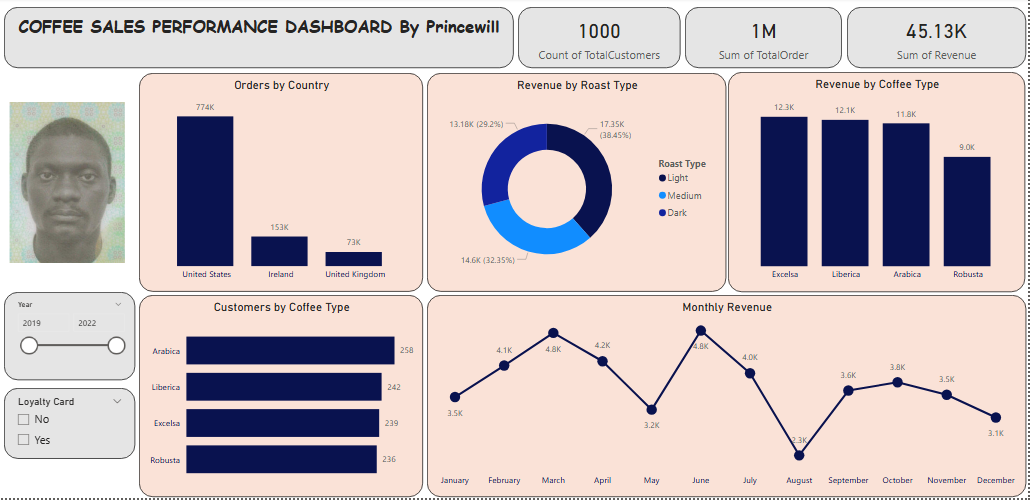

What the dashboard file says about the page in this screenshot:
{"tool":"powerbi","page":{"name":"Executive Dashboard","canvas":[1480,720],"ordinal":1},"visuals":[{"type":"columnChart","title":"Orders by Country","fields":{"Category":["customers.Country"],"Y":["Sum(orders.TotalOrder)"]},"box":[200.5,108.2,409,315.1],"z":0},{"type":"donutChart","title":"Revenue by Roast Type","fields":{"Category":["products.Roast Type"],"Y":["Sum(orders.Revenue)"]},"box":[614.3,108.2,431.3,315.1],"z":1000},{"type":"clusteredBarChart","title":"Customers by Coffee Type","fields":{"Category":["products.Coffee Type"],"Y":["CountNonNull(customers.TotalCustomers)"]},"box":[200.5,428.1,409,291.2],"z":2000},{"type":"clusteredColumnChart","title":"Revenue by Coffee Type","fields":{"Category":["products.Coffee Type"],"Y":["Sum(orders.Revenue)"]},"box":[1048.7,106.6,428.1,316.7],"z":3000},{"type":"lineChart","title":"Monthly Revenue","fields":{"Category":["orders.Order Date.Variation.Date Hierarchy.Month"],"Y":["Sum(orders.Revenue)"]},"box":[614.3,428.1,862.5,291.2],"z":4000},{"type":"card","fields":{"Values":["Sum(orders.Revenue)"]},"box":[1219,12.7,257.8,87.5],"z":5000},{"type":"card","fields":{"Values":["Sum(orders.TotalOrder)"]},"box":[986.7,12.7,226,87.5],"z":6000},{"type":"textbox","box":[5.8,13,734.4,87.8],"z":7000},{"type":"slicer","fields":{"Values":["orders.Order Date.Variation.Date Hierarchy.Year"]},"box":[6.4,423.3,189.4,127.3],"z":8000},{"type":"slicer","fields":{"Values":["customers.Loyalty Card"]},"box":[6.4,561.8,189.4,101.8],"z":9000},{"type":"card","fields":{"Values":["CountNonNull(customers.TotalCustomers)"]},"box":[746.4,12.7,233.9,87.5],"z":10000},{"type":"image","box":[6.4,149.6,181.4,232.3],"z":11000}]}

Visuals, with their boxes in screenshot pixels (x1, y1, x2, y2), scaled from the page's 1480x720 canvas onto the 1030x500 screenshot:
"Orders by Country" columnChart: Rect(140, 75, 424, 294)
"Revenue by Roast Type" donutChart: Rect(428, 75, 728, 294)
"Customers by Coffee Type" clusteredBarChart: Rect(140, 297, 424, 499)
"Revenue by Coffee Type" clusteredColumnChart: Rect(730, 74, 1028, 294)
"Monthly Revenue" lineChart: Rect(428, 297, 1028, 499)
card - Sum(orders.Revenue): Rect(848, 9, 1028, 70)
card - Sum(orders.TotalOrder): Rect(687, 9, 844, 70)
textbox: Rect(4, 9, 515, 70)
slicer - orders.Order Date.Variation.Date Hierarchy.Year: Rect(4, 294, 136, 382)
slicer - customers.Loyalty Card: Rect(4, 390, 136, 461)
card - CountNonNull(customers.TotalCustomers): Rect(519, 9, 682, 70)
image: Rect(4, 104, 131, 265)
